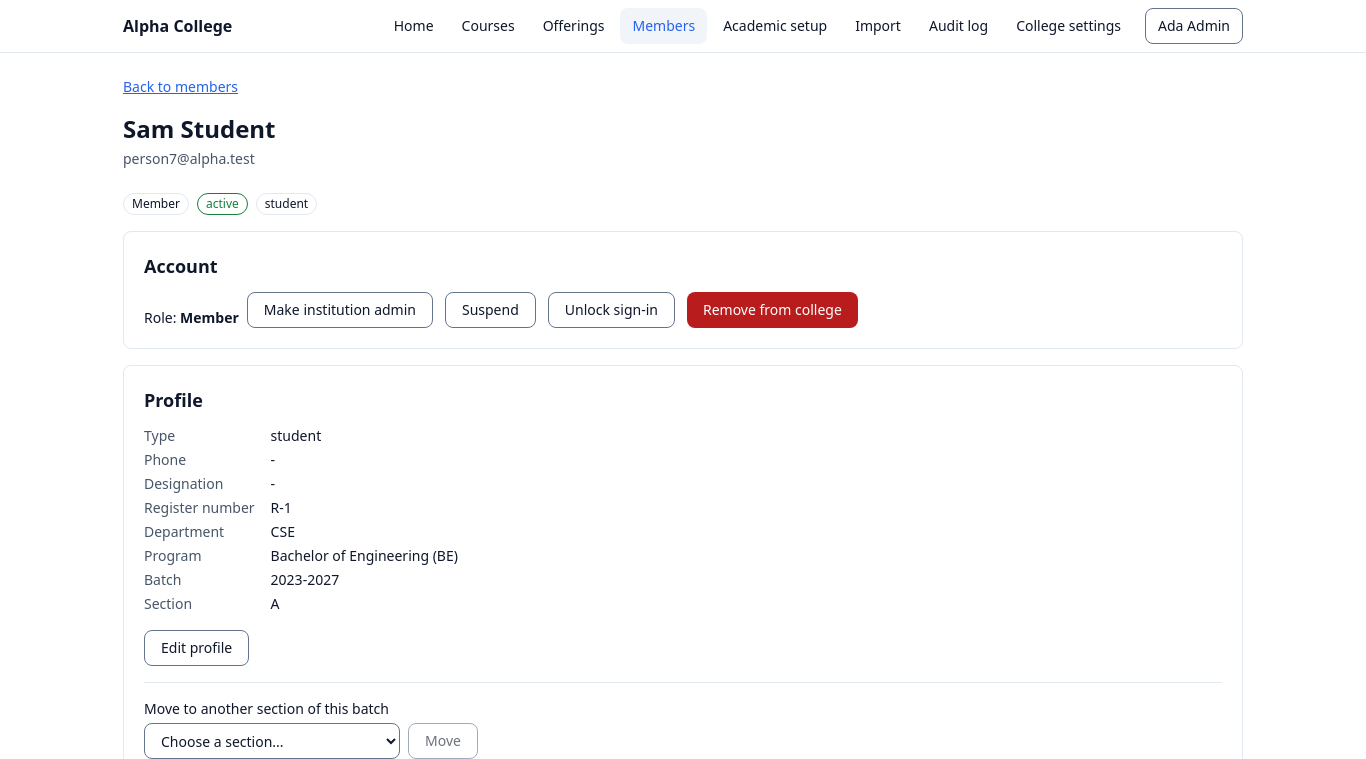
Test case: editing a student profile › shows the program (name and code) and prefills department, program, batch and section
Expected: the text "2023-2027" is shown, [271,570,339,589]
Expected: the text "Bachelor of Engineering (BE)" is shown, [271,546,458,565]
Click the button "Edit profile".
click(197, 648)  # box [144,630,249,666]
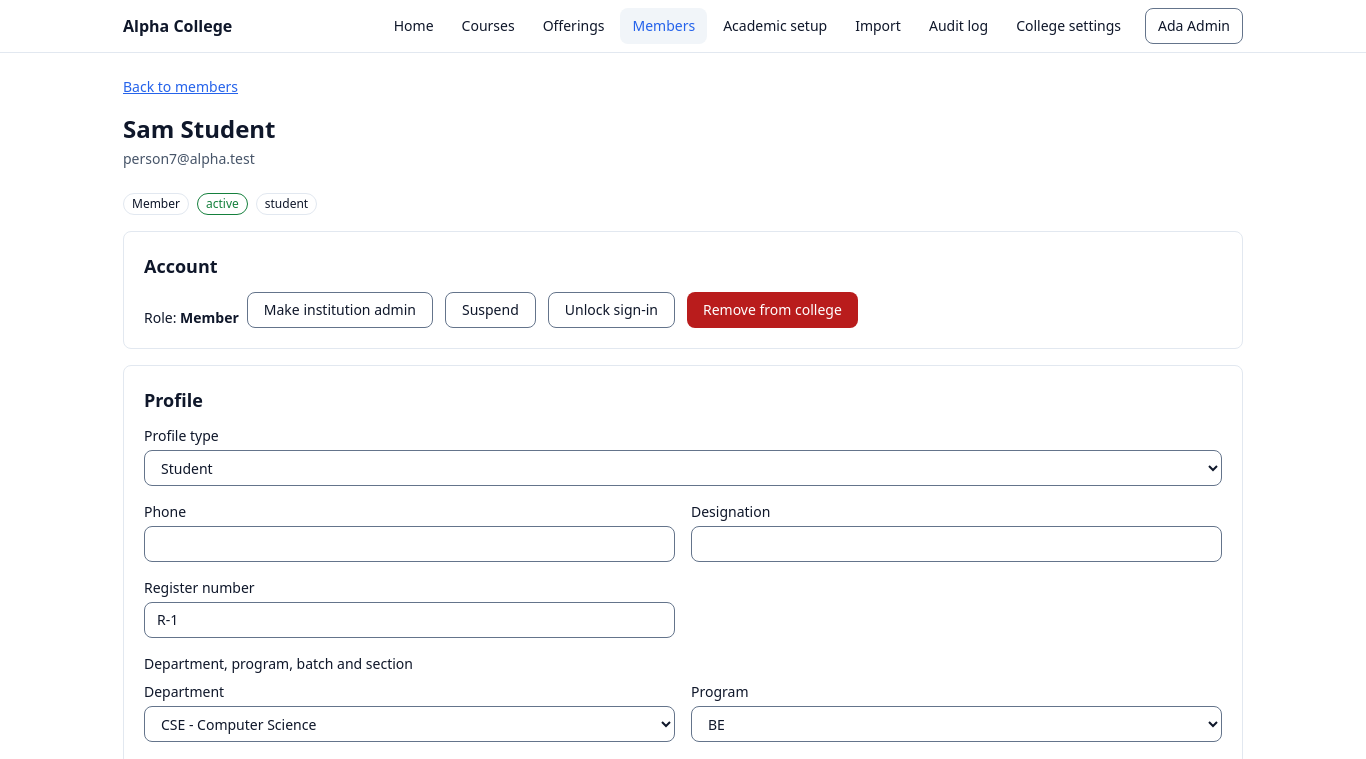
Expected: the dropdown labelled "Program" is enabled, [691,706,1222,742]
Expected: the dropdown labelled "Department" shows "CSE - Computer Science", [144,706,675,742]
Expected: the dropdown labelled "Program" shows "BE", [691,706,1222,742]
